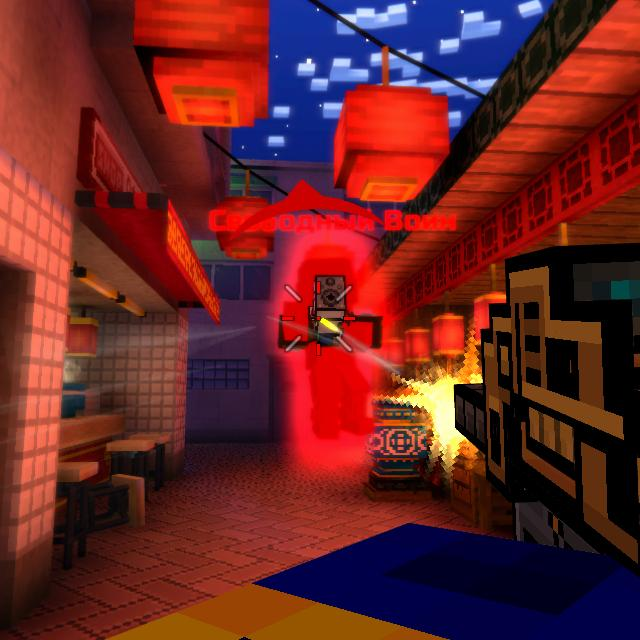Enemy: (276, 263, 382, 440)
